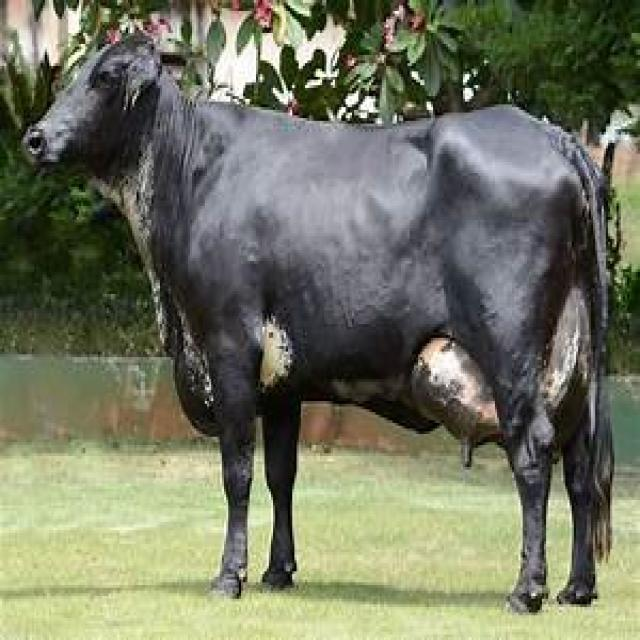animal: (19, 28, 614, 612)
